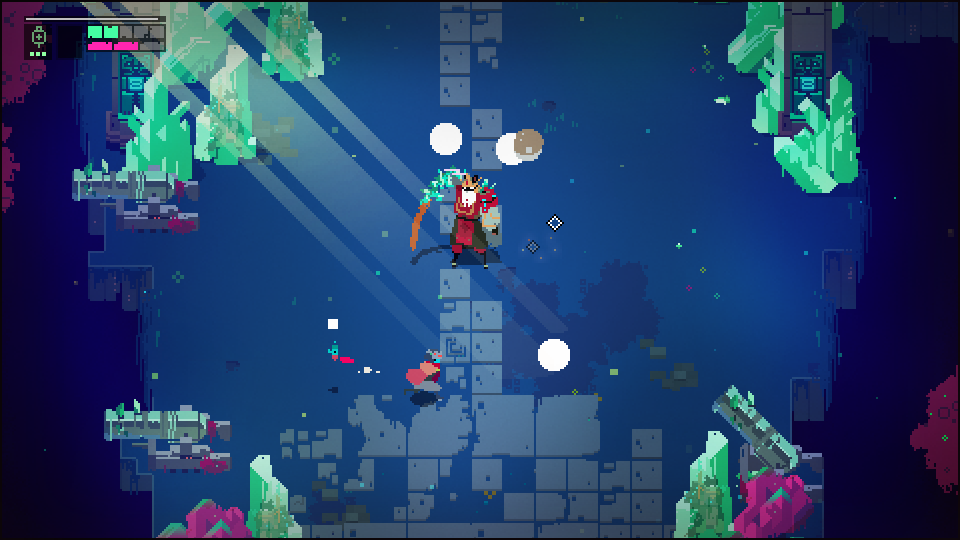hanged_man: (411, 159, 513, 278)
player: (404, 344, 450, 403)
